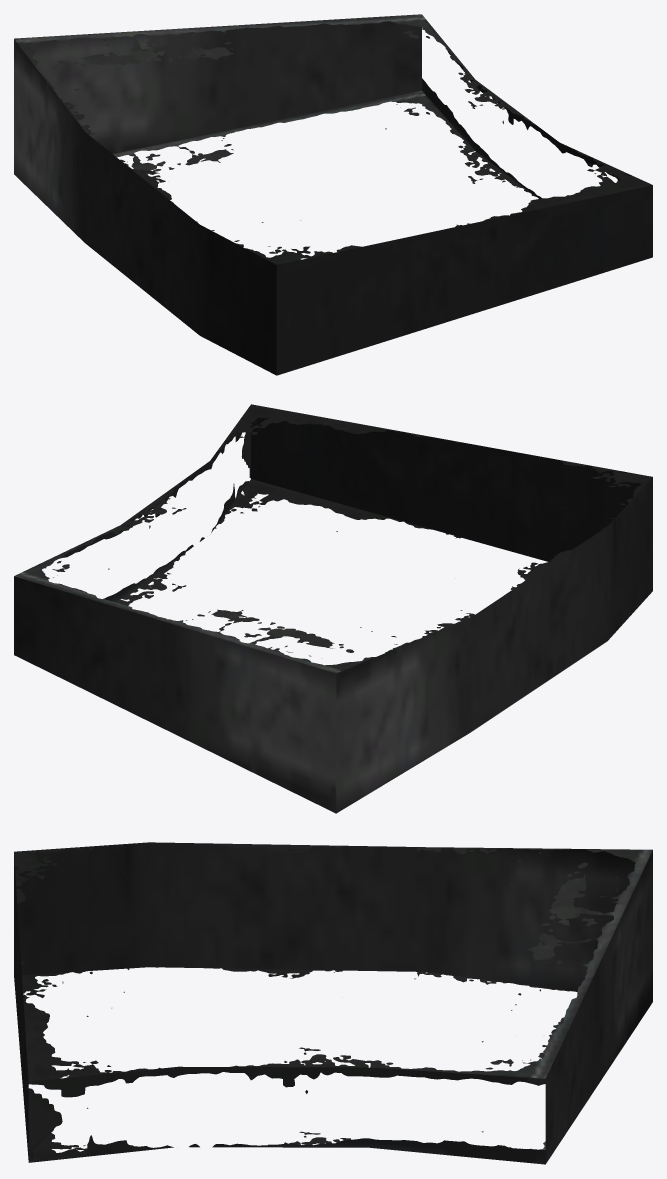
Rendered from t6_attach_mag_svu_world_LOD0.obj.
The picture shows the model from 3 angles, top to bottom: view 1: azimuth 30°, elevation 25°; view 2: azimuth 150°, elevation 25°; view 3: azimuth 270°, elevation 25°; orthographic projection. The views are drawn at different scales.
Visible parts, largest first — view 1: mtl_t6_wpn_sniper_svu, mtl_t6_wpn_sniper_svu_camo3; view 2: mtl_t6_wpn_sniper_svu, mtl_t6_wpn_sniper_svu_camo3; view 3: mtl_t6_wpn_sniper_svu_camo3, mtl_t6_wpn_sniper_svu.
Boxes of the visible parts, <box> form: mtl_t6_wpn_sniper_svu: <box>14,14,652,375</box>; mtl_t6_wpn_sniper_svu_camo3: <box>14,39,276,375</box>; mtl_t6_wpn_sniper_svu: <box>14,404,652,813</box>; mtl_t6_wpn_sniper_svu_camo3: <box>336,477,652,813</box>; mtl_t6_wpn_sniper_svu_camo3: <box>15,842,635,991</box>; mtl_t6_wpn_sniper_svu: <box>14,842,652,1164</box>.
Bounding box in the file's own units: 11 × 3.57 × 13.59.
